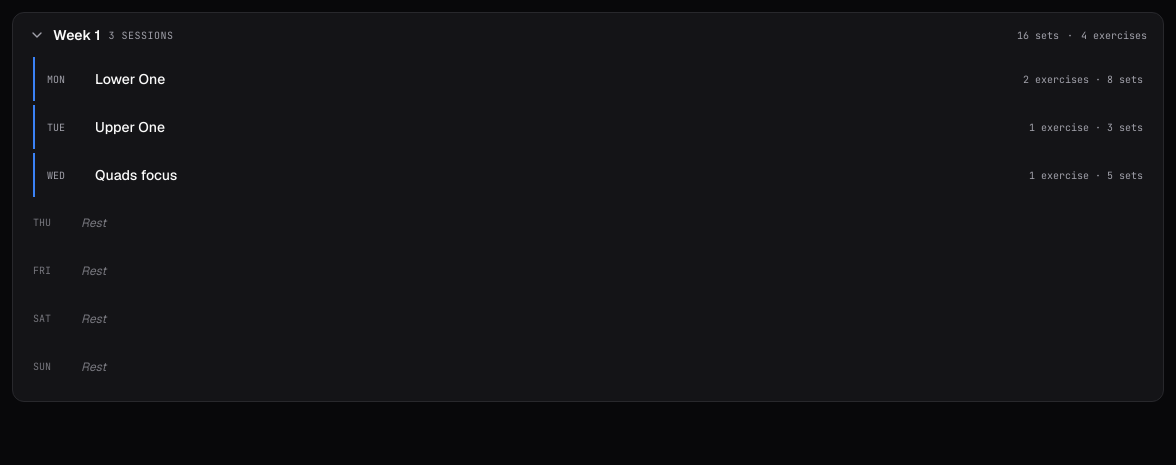
it: WeekBreakdownCard — PR3 › expanding a day reveals its exercises with prescriptions
Check: the text "Quads BB High Bar Back Squat (M)" is not shown
Click the button "Mon Lower One 2 exercises · 8 sets". click: click(130, 79)
box: [43,57,1151,101]
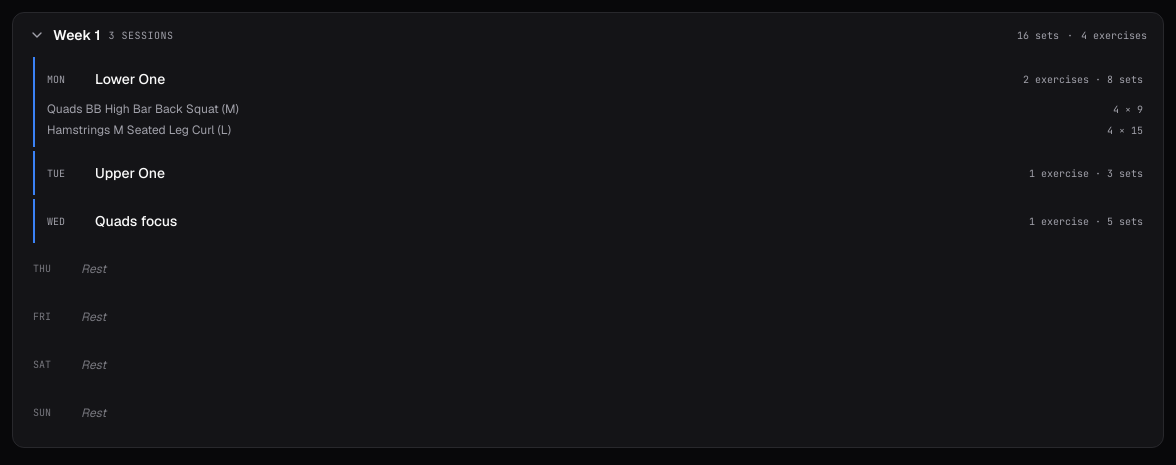
Check: the text "Quads BB High Bar Back Squat (M)" is shown, box [47,101,239,117]
Check: the text "4 × 9" is shown, box [1113,102,1143,118]
Check: the text "Hamstrings M Seated Leg Curl (L)" is shown, box [47,122,231,138]
